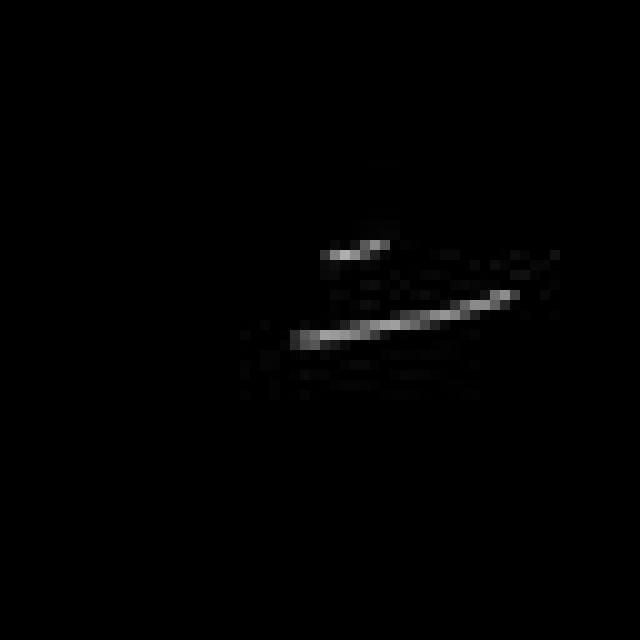2 -two-: (276, 222, 532, 368)
